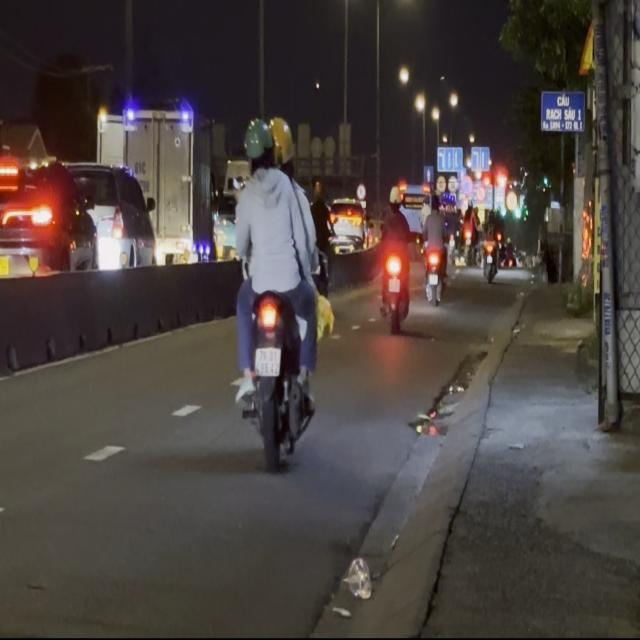helmet: (243, 117, 274, 172), (268, 115, 294, 173)
licenseplate: (227, 114, 326, 469)
nohelmet: (254, 347, 280, 375)
